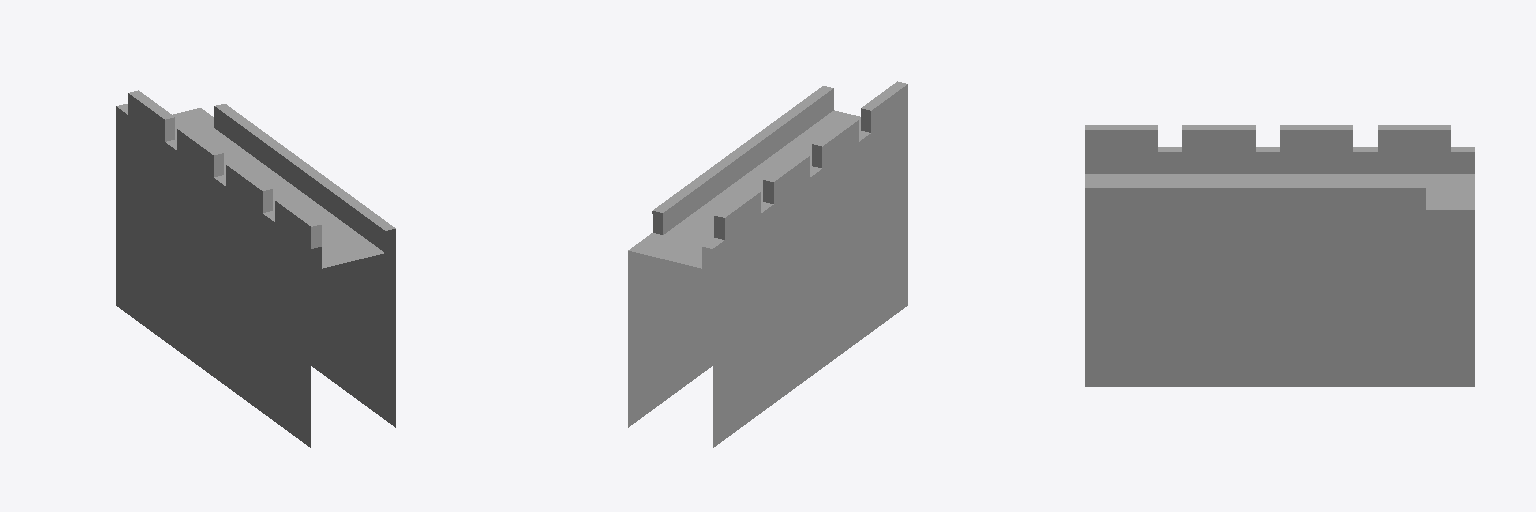
The model's file is WALL.obj.
3 renders of one model, left to right at view 1: azimuth 30°, elevation 25°; view 2: azimuth 150°, elevation 25°; view 3: azimuth 270°, elevation 25°, orthographic.
Visible parts, largest first — view 1: Object_poorlords_bricks.jpg, Object_wall_bottom_moss.jpg, Object_wall_bottom_mud.jpg, Object_poorlords_battlements_floor.jpg; view 2: Object_poorlords_bricks.jpg, Object_wall_bottom_moss.jpg, Object_wall_bottom_mud.jpg, Object_poorlords_battlements_floor.jpg; view 3: Object_poorlords_bricks.jpg, Object_wall_bottom_mud.jpg, Object_poorlords_battlements_floor.jpg.
Part boxes in pixels (x1,y1,x2,y2): Object_poorlords_bricks.jpg: (116,90,395,336); Object_wall_bottom_moss.jpg: (116,195,310,447); Object_wall_bottom_mud.jpg: (311,261,395,427); Object_poorlords_battlements_floor.jpg: (173,108,383,268); Object_poorlords_bricks.jpg: (628,81,907,336); Object_wall_bottom_moss.jpg: (713,195,907,447); Object_wall_bottom_mud.jpg: (628,261,712,427); Object_poorlords_battlements_floor.jpg: (628,110,860,268); Object_poorlords_bricks.jpg: (1085,125,1474,275); Object_wall_bottom_mud.jpg: (1085,276,1474,386); Object_poorlords_battlements_floor.jpg: (1085,174,1474,209).
Size of the model in its own units: 0.625 by 1.57 by 2.5.